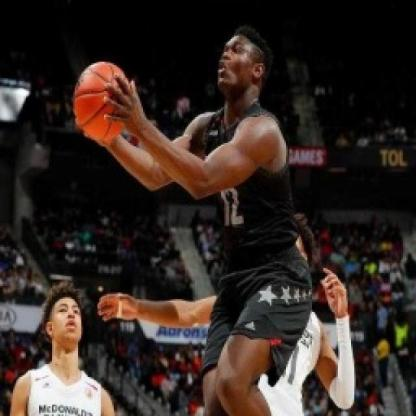basketball: (72, 62, 135, 142)
